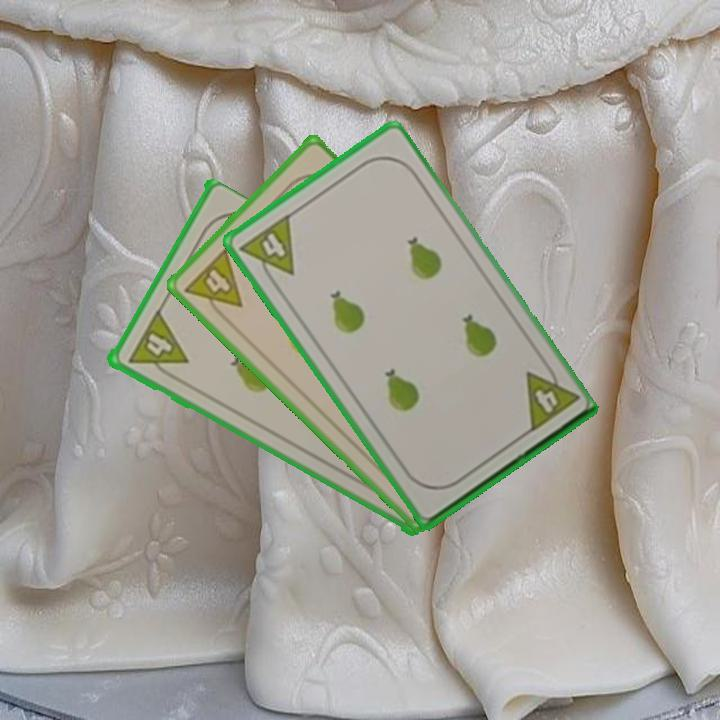4p: (181, 244, 246, 325), (124, 308, 190, 384), (236, 210, 298, 290), (521, 358, 581, 436)
